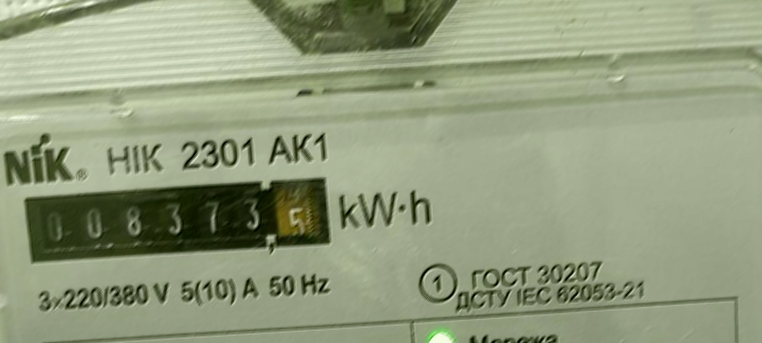0: (44, 207, 66, 244), (84, 203, 105, 240)
3: (241, 194, 265, 232), (163, 198, 186, 237)
4: (285, 183, 304, 204)
5: (287, 204, 308, 235)
7: (203, 195, 223, 235)
8: (123, 201, 146, 238)
screen: (19, 169, 341, 275)
